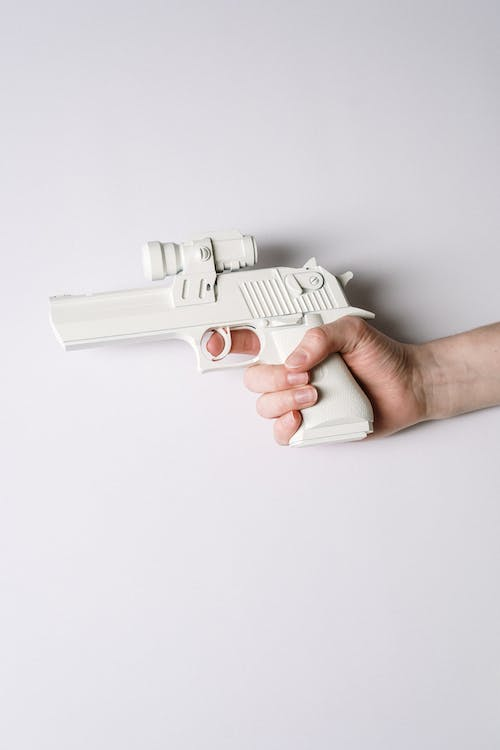gun: (44, 227, 380, 448)
